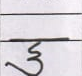u_matra: (7, 57, 47, 75)
